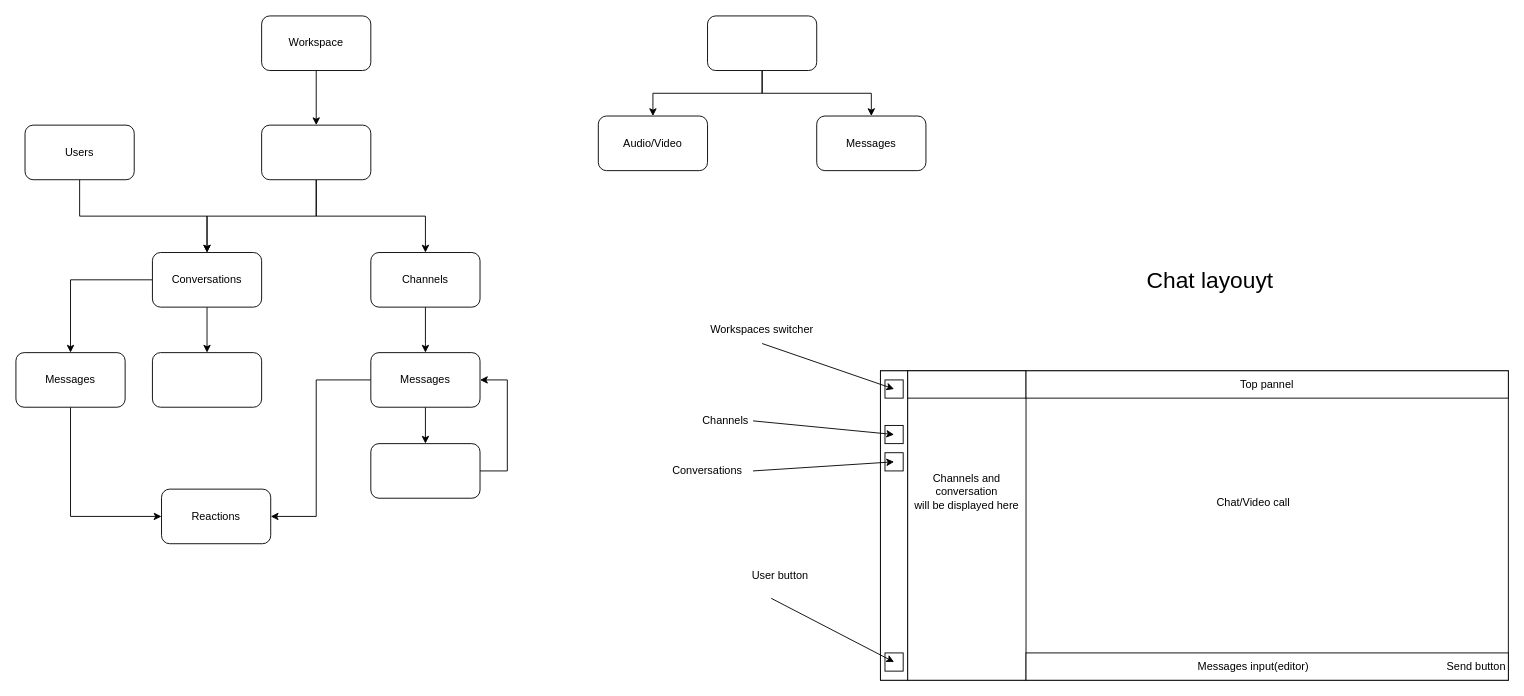
Image size: 1524x696. Some labels were removed from this diagram. The centre of each missing label's shape, as x and y in pixels:
Calls: the point at 207,379
Channel Types: the point at 762,43
Chat: the point at 316,152
Search: the point at 966,384
Thread: the point at 425,470
